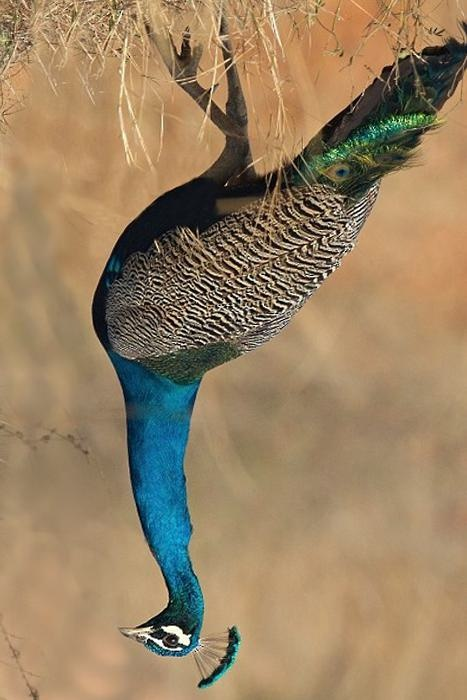peacock: (104, 46, 464, 681)
